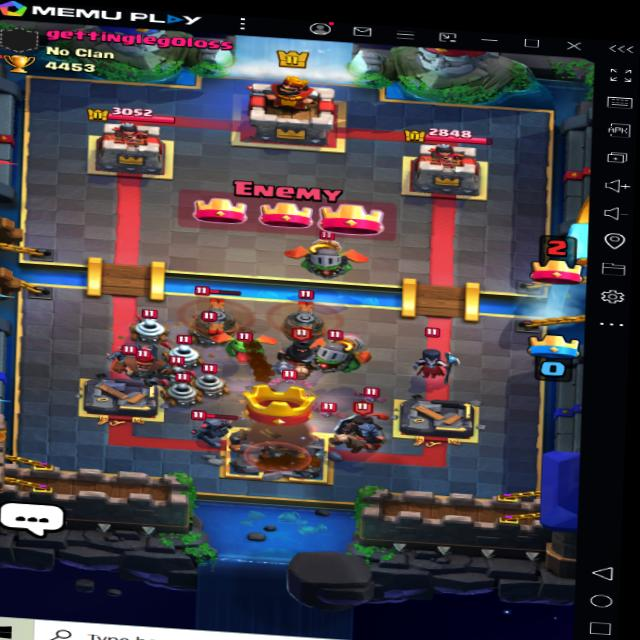Babydragon: (212, 326, 283, 365)
Bat: (309, 391, 343, 419), (270, 372, 303, 393), (351, 388, 385, 407)
Darkprince: (330, 400, 399, 459), (272, 325, 336, 374)
Flyingmachine: (168, 287, 259, 348), (271, 298, 336, 351)
Infernodragon: (290, 231, 363, 288), (325, 310, 381, 367)
Minipekka: (185, 409, 239, 442), (101, 340, 154, 365)
Nightwitch: (410, 338, 464, 385)
Zappies: (123, 304, 176, 341), (164, 371, 203, 404), (188, 364, 226, 397), (163, 338, 205, 367)
hunter: (112, 344, 164, 380)
